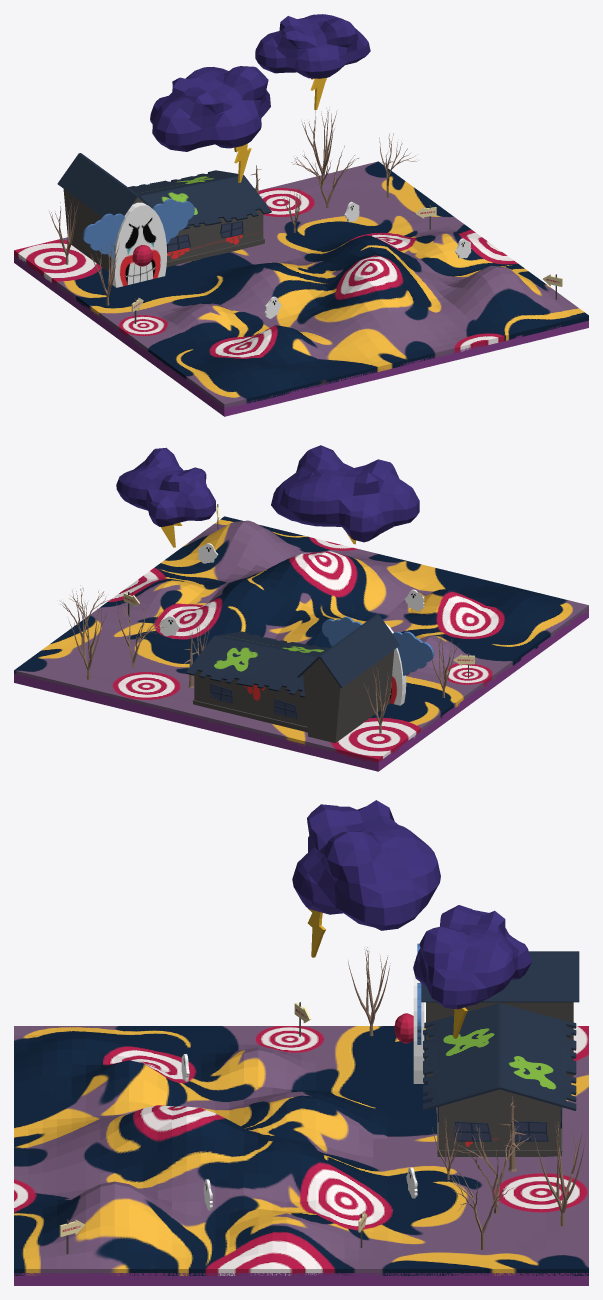
The model's file is D4_Haunted_house.fbx.
3 views of the same model, one above another, from view 1: azimuth 30°, elevation 25°; view 2: azimuth 150°, elevation 25°; view 3: azimuth 270°, elevation 25° (orthographic). The views are drawn at different scales.
Visible parts, largest first — view 1: Cube.178, Mball.012, Cube.180, Mball.001, Cube.177, Cube.179, Cylinder.129, Circle.033, tree.002; view 2: Cube.178, Mball.012, Cube.180, Cube.179, Cube.177, Mball.001, Circle.033, Cylinder.129, tree.002, tree.001, tree.005, tree.004; view 3: Cube.178, Cube.180, Mball.012, Mball.001, Cube.177, Cube.179, tree.002, Cylinder.129, tree.001, tree.004, Plane.047, Plane.048 (+1 smaller).
Boxes of the visible parts, x1,y1,x2,y2 form: Cube.178: [14, 161, 588, 409]; Mball.012: [150, 66, 270, 151]; Cube.180: [128, 170, 271, 267]; Mball.001: [255, 14, 370, 78]; Cube.177: [14, 255, 588, 416]; Cube.179: [57, 153, 152, 272]; Cylinder.129: [110, 202, 167, 287]; Circle.033: [82, 198, 194, 257]; tree.002: [301, 108, 337, 184]; Cube.178: [14, 516, 588, 763]; Mball.012: [271, 445, 419, 542]; Cube.180: [186, 631, 329, 732]; Cube.179: [297, 614, 399, 743]; Cube.177: [14, 608, 588, 771]; Mball.001: [116, 447, 215, 526]; Circle.033: [322, 616, 433, 675]; Cylinder.129: [385, 623, 406, 705]; tree.002: [68, 602, 106, 679]; tree.001: [116, 603, 168, 667]; tree.005: [364, 667, 395, 733]; tree.004: [432, 632, 458, 697]; Cube.178: [14, 1026, 588, 1275]; Cube.180: [423, 1003, 576, 1156]; Mball.012: [292, 800, 440, 930]; Mball.001: [413, 905, 531, 1009]; Cube.177: [14, 1273, 588, 1285]; Cube.179: [420, 951, 579, 1076]; tree.002: [534, 1122, 585, 1226]; Cylinder.129: [413, 961, 424, 1083]; tree.001: [457, 1123, 530, 1213]; tree.004: [348, 947, 390, 1036]; Plane.047: [454, 1121, 491, 1141]; Plane.048: [513, 1121, 548, 1141].
Bounding box in the file's own units: 4000 × 2361 × 4000.
Materials: 12 (9 with a texture image).
